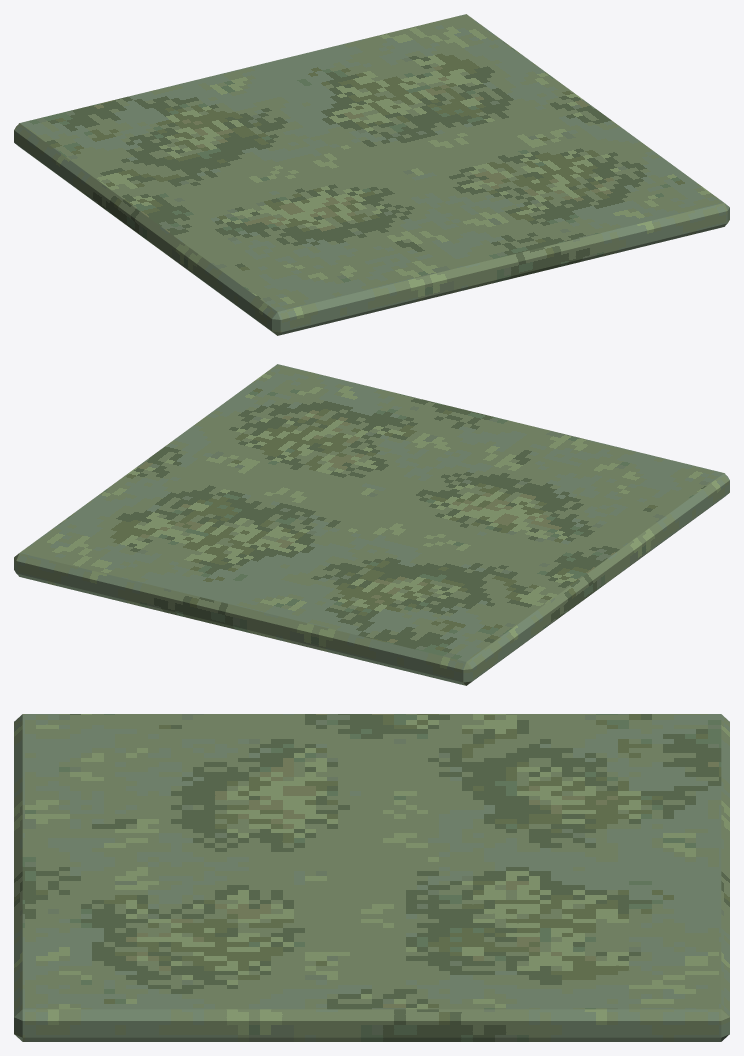
File: topo_b.fbx
3 views of the same model, one above another, from view 1: azimuth 30°, elevation 25°; view 2: azimuth 150°, elevation 25°; view 3: azimuth 270°, elevation 25° (orthographic). The views are drawn at different scales.
Visible parts, largest first — view 1: bosque_topo_b; view 2: bosque_topo_b; view 3: bosque_topo_b.
Part boxes in pixels (left/top/right/bottom): bosque_topo_b: left=14, top=14, right=729, bottom=335; bosque_topo_b: left=14, top=364, right=729, bottom=685; bosque_topo_b: left=14, top=714, right=729, bottom=1041.
Size of the model in its own units: 100 by 5 by 100.
1 material, 1 textured.
